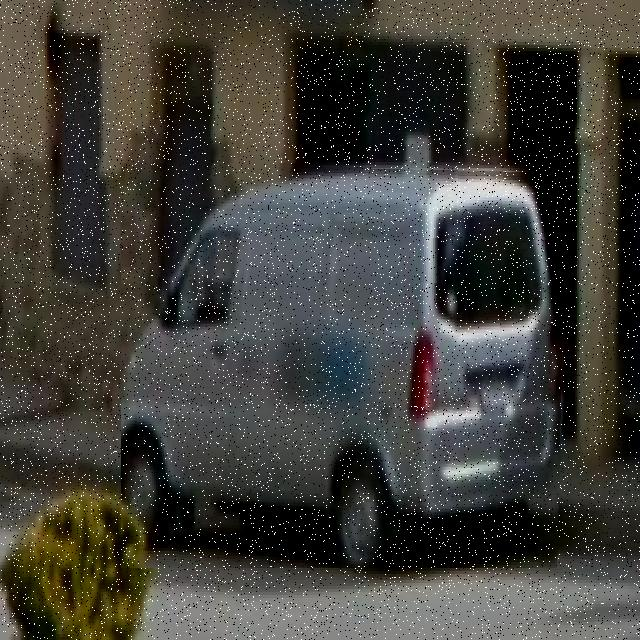car: (123, 164, 569, 569)
